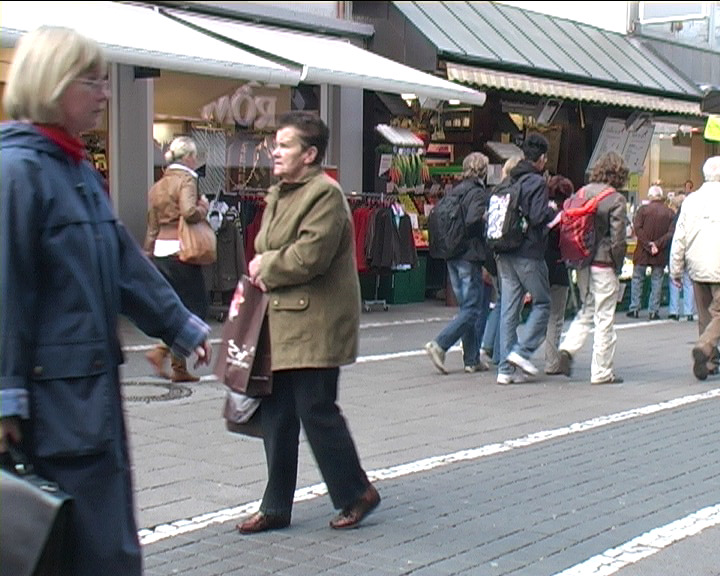undeflect: (257, 117, 354, 216)
